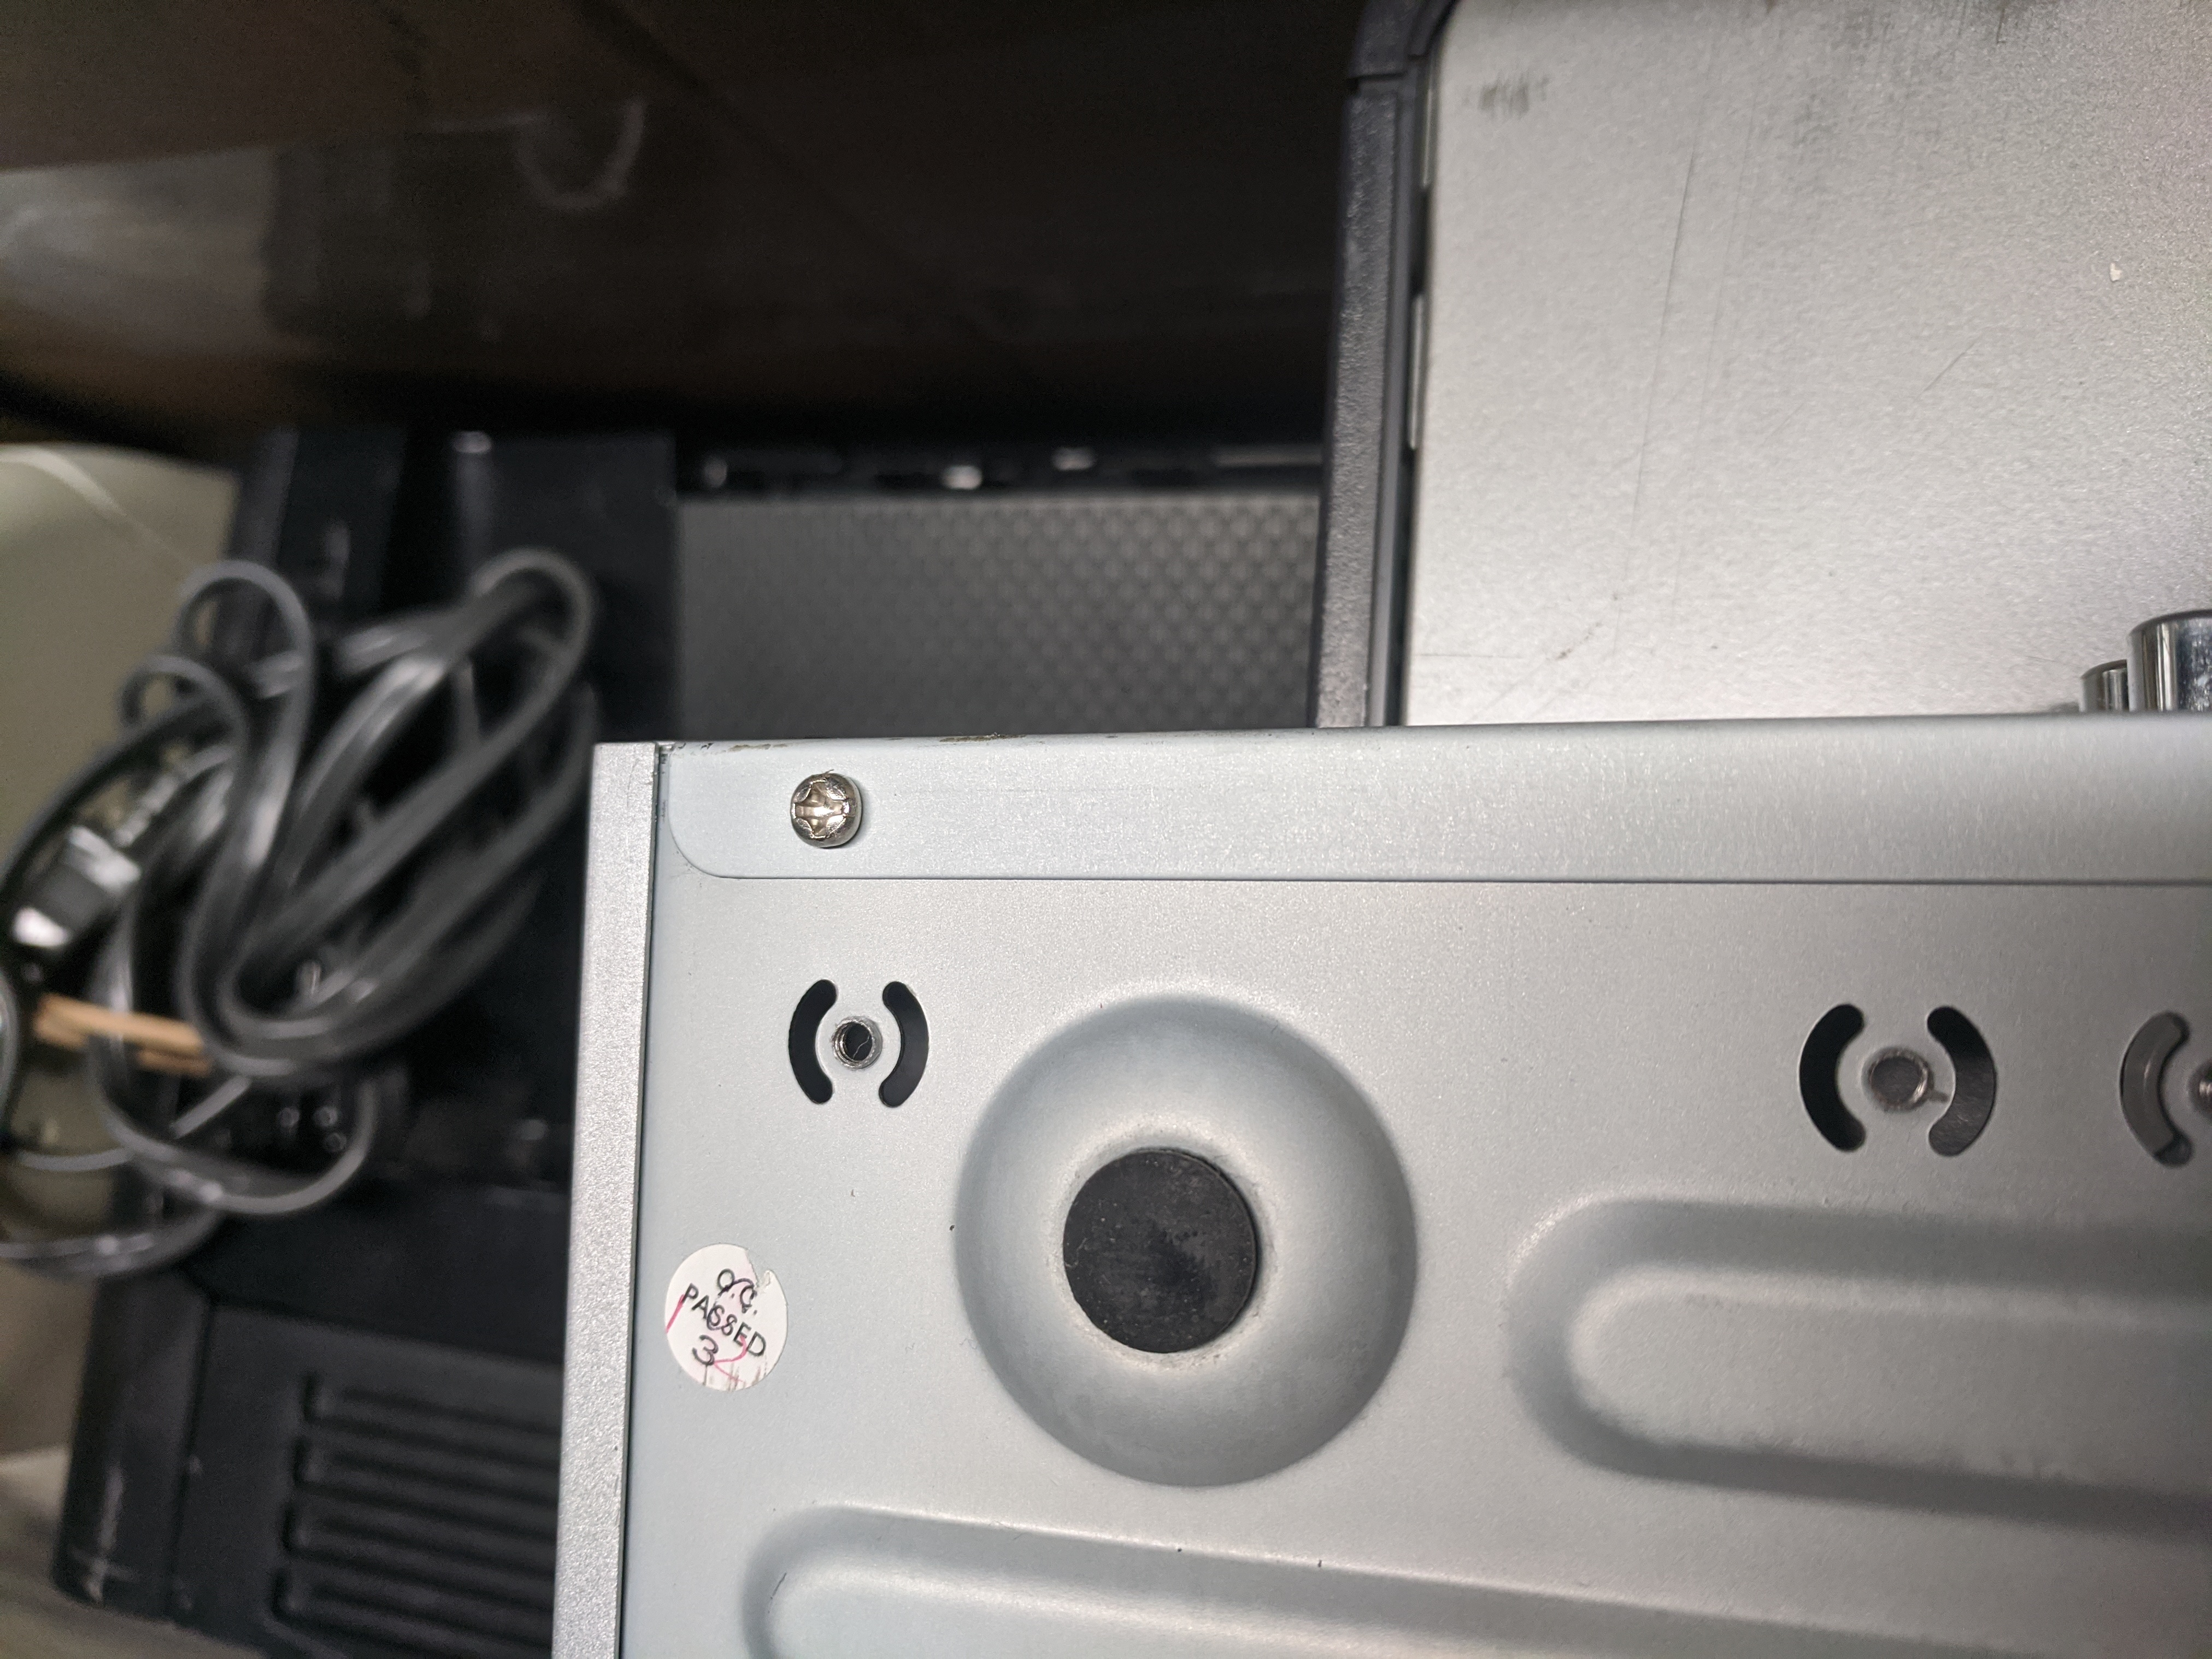cross_recessed_screw: (773, 763, 873, 854)
